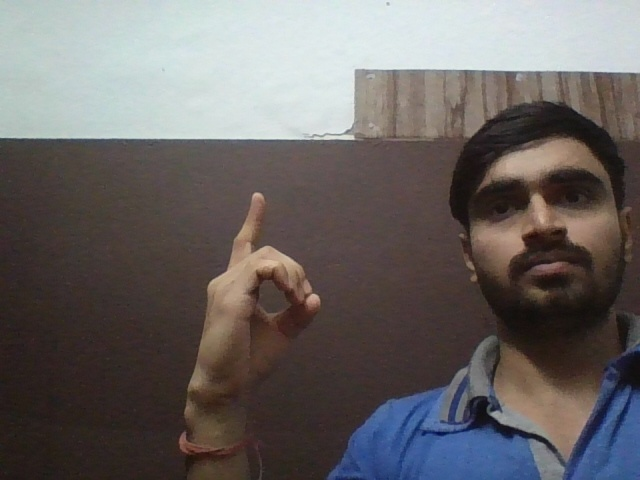D: (186, 187, 335, 373)
